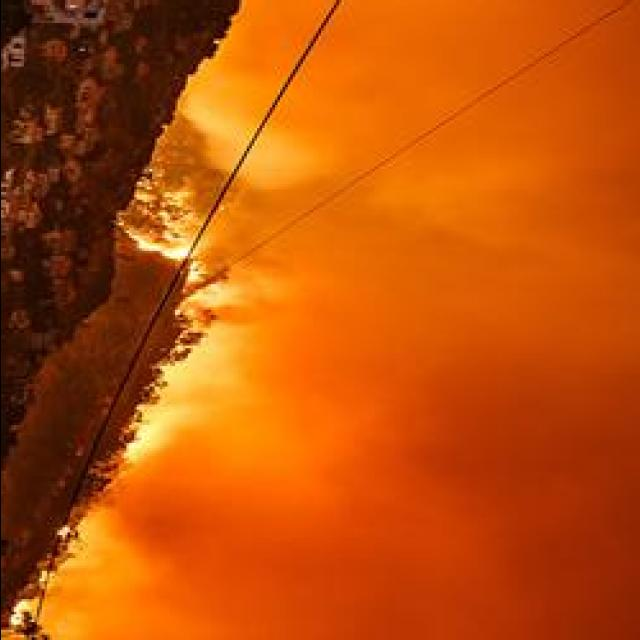fire: (177, 284, 233, 306), (138, 238, 192, 260), (122, 430, 154, 466)
smoke: (408, 363, 636, 635), (259, 0, 621, 166), (243, 156, 473, 278), (110, 496, 306, 634), (455, 156, 639, 286), (178, 80, 336, 176), (66, 564, 174, 640), (216, 278, 302, 346)
